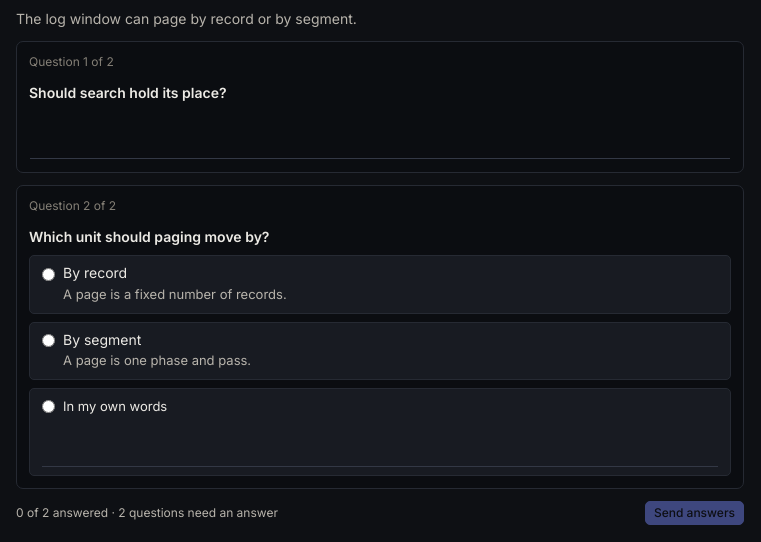
sending the set › GEA-FR-FFKD: Send is enabled only once every recorded question is answered
Expected: the button with test id "graduation-send-answers" is disabled, [645,501,744,525]
Click the radio button labelled "By segment A page is one phase and pass.".
click(48, 340)  # box [42,334,55,347]
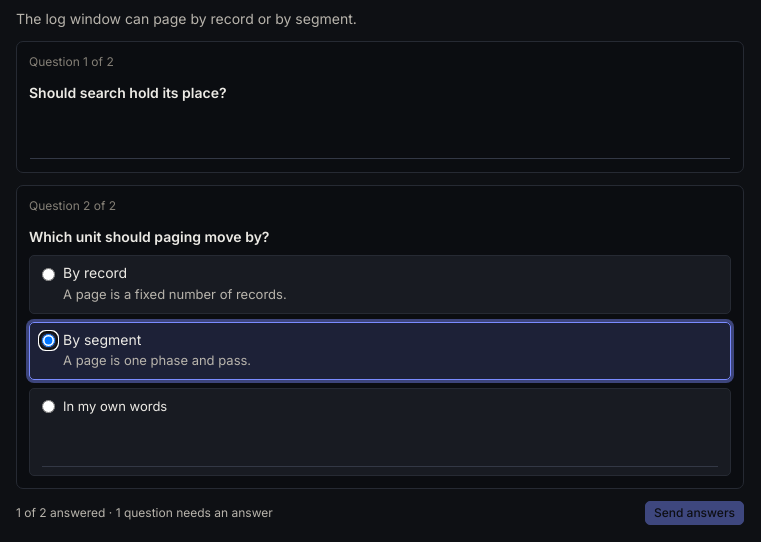
Type "Yes" into the text box named "Your answer to question 5".
click(380, 136); type("Yes")  # box [30,112,730,159]
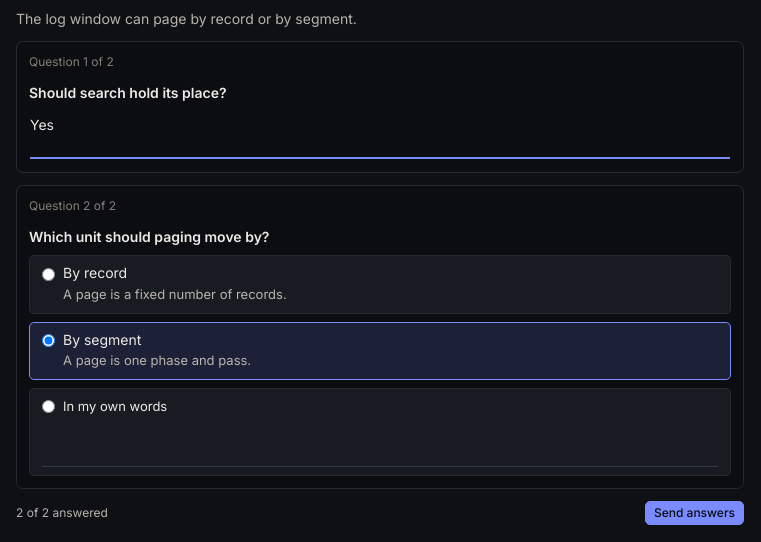
Expected: the button with test id "graduation-send-answers" is enabled, [645,501,744,525]
